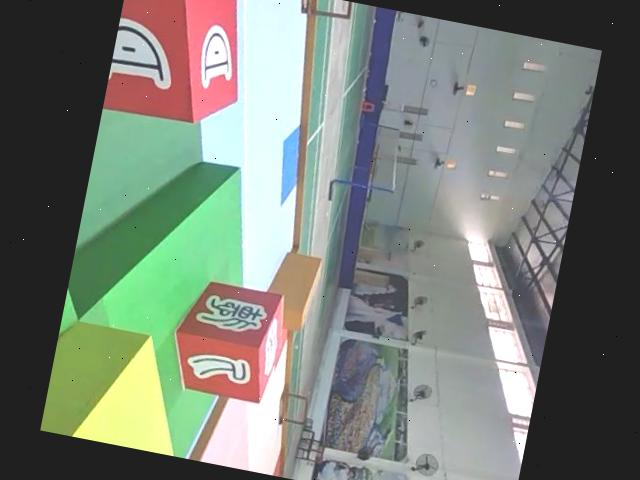R2 Fake: (159, 272, 291, 409)
R2 Real: (100, 0, 263, 137)
